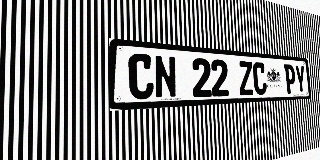2: (192, 57, 212, 97), (211, 59, 229, 97)
C: (128, 53, 154, 100), (252, 62, 267, 95)
N: (154, 55, 177, 99)
P: (284, 64, 296, 94)
Y: (294, 65, 306, 93)
Z: (238, 61, 254, 95)
